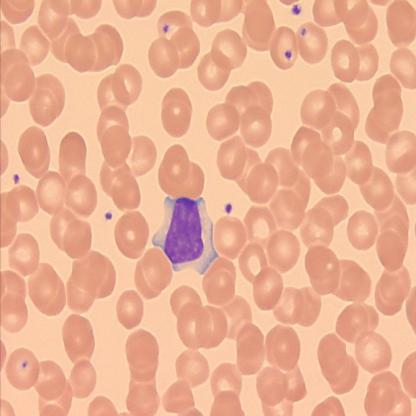Atypical lymphocyte: (150, 192, 222, 279)
